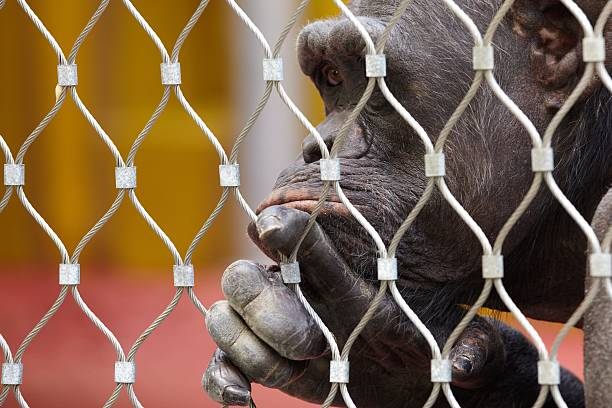chimpanzee: (247, 4, 612, 393)
